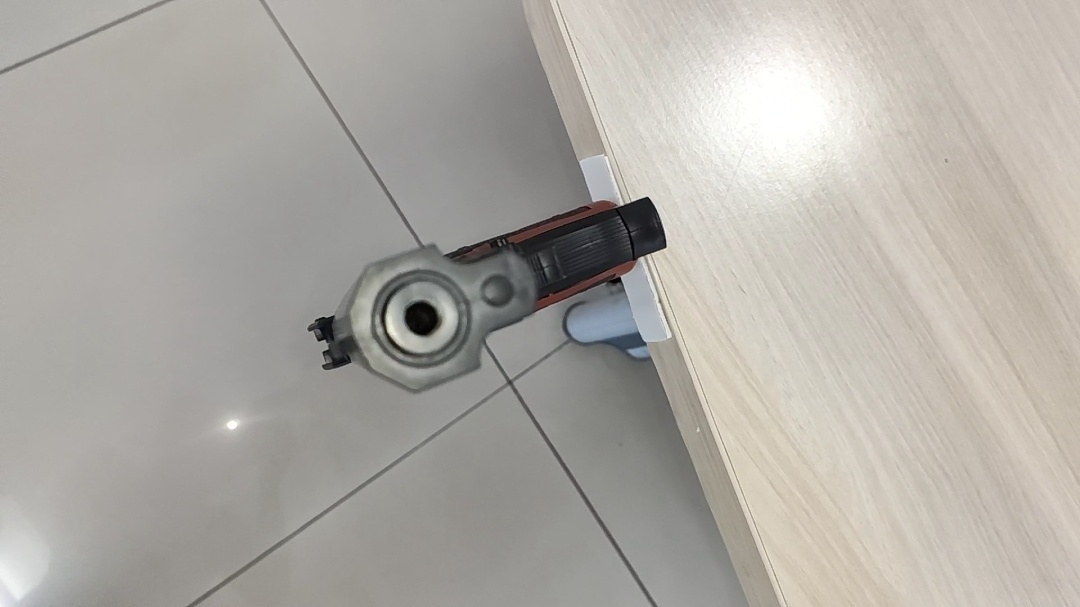gun: (603, 257, 646, 274)
